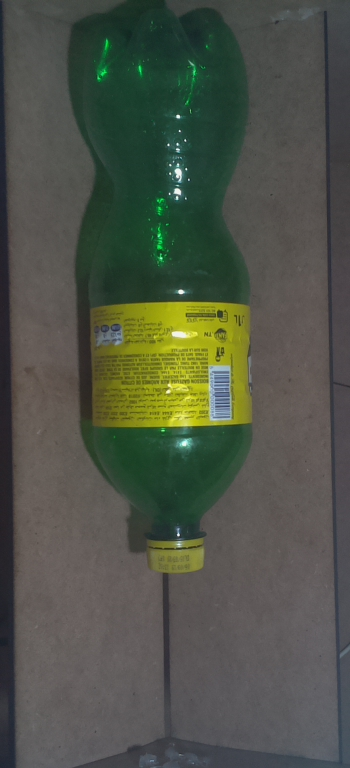Bouteille_1L: (66, 7, 265, 579)
